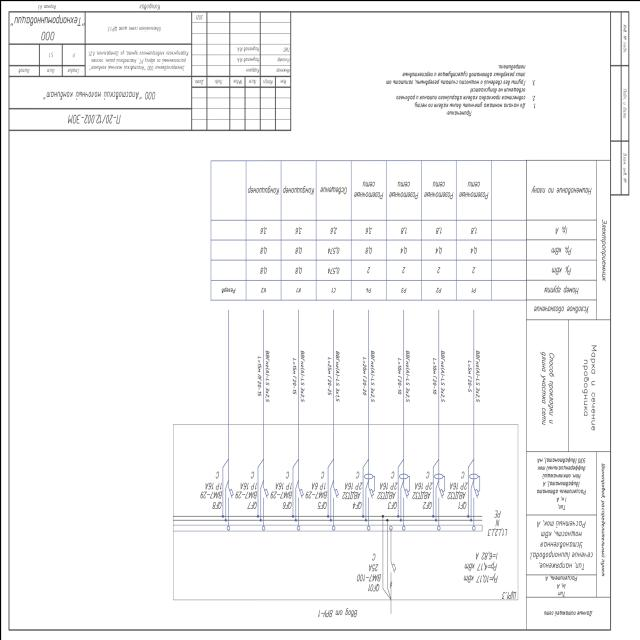-: (355, 562, 381, 582), (198, 480, 222, 500), (268, 480, 292, 500), (233, 480, 256, 500), (304, 480, 326, 499), (411, 481, 432, 499), (341, 481, 362, 498), (376, 481, 397, 498), (446, 481, 467, 498), (500, 587, 516, 601)
QF: (387, 560, 395, 588), (261, 484, 269, 500), (296, 485, 304, 501), (331, 486, 339, 502), (226, 484, 233, 500)
QFD: (362, 472, 374, 500), (397, 472, 409, 500), (432, 472, 444, 500), (468, 472, 480, 500)
